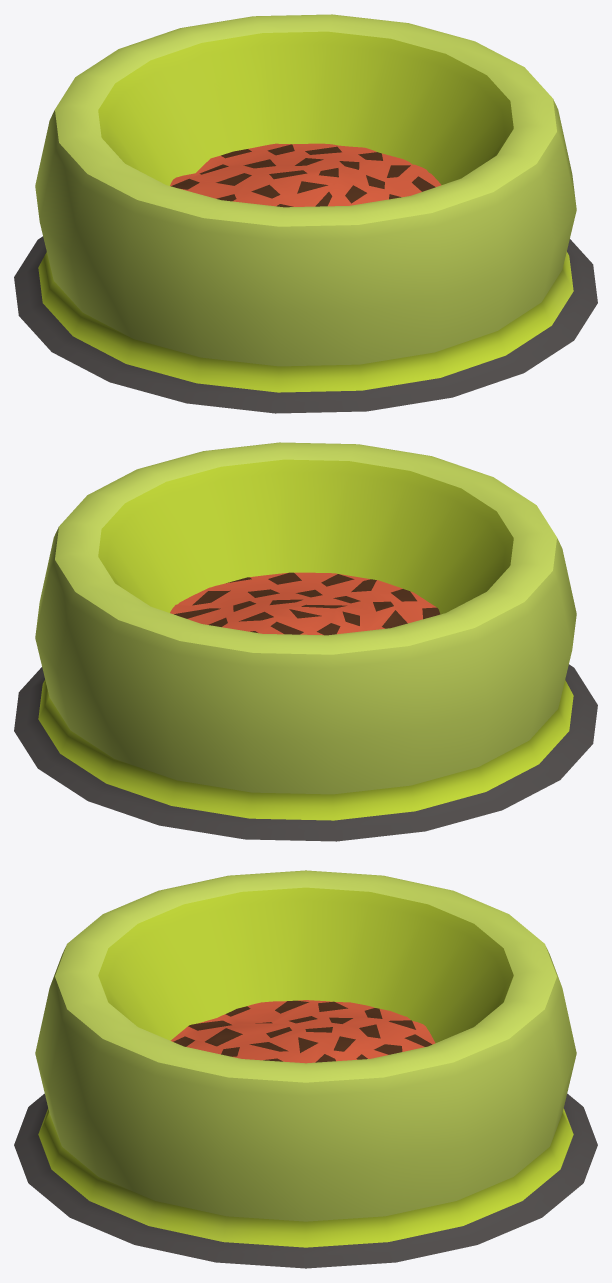
File: dog_food_bowl_2.fbx
The picture shows the model from 3 angles, top to bottom: view 1: azimuth 30°, elevation 25°; view 2: azimuth 150°, elevation 25°; view 3: azimuth 270°, elevation 25°; orthographic projection.
Parts seen in each view (by area): view 1: pDisc15; view 2: pDisc15; view 3: pDisc15.
Part boxes in pixels (box(x1,y1,x2,y2)): pDisc15: box(14, 14, 597, 413); pDisc15: box(14, 442, 597, 841); pDisc15: box(14, 870, 597, 1268).
Bounding box in the file's own units: 59.94 × 22.65 × 59.94.
Materials: 1 (1 with a texture image).
